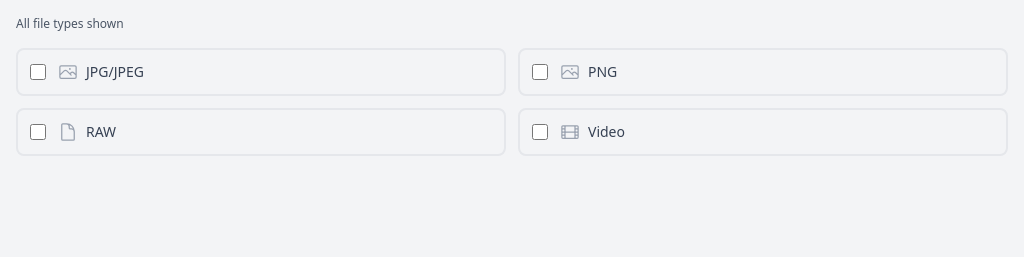
Test case: FileTypeFilter › Rendering › uses plural form for multiple selections
Click the checkbox named "select file type jpg": (38,72) x1=30 y1=64 x2=46 y2=80
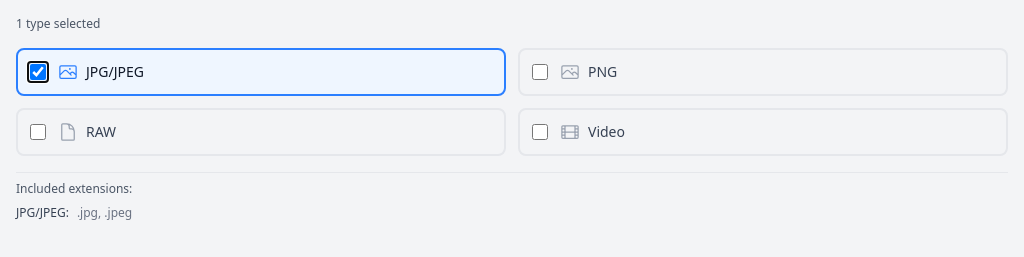
Click the checkbox named "select file type png": (540,72) x1=532 y1=64 x2=548 y2=80
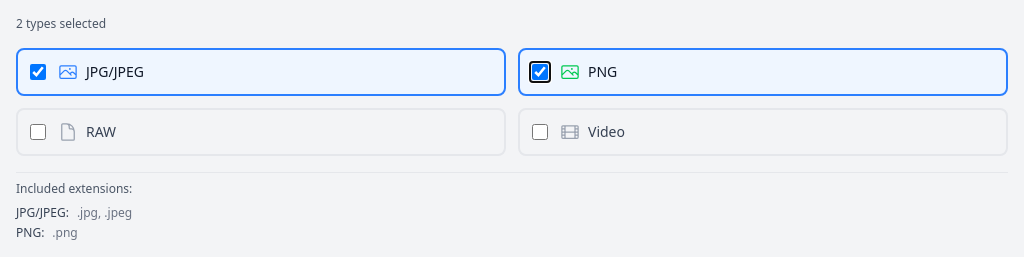
Check: the text "2 types selected" is shown, box x1=16 y1=15 x2=106 y2=32
